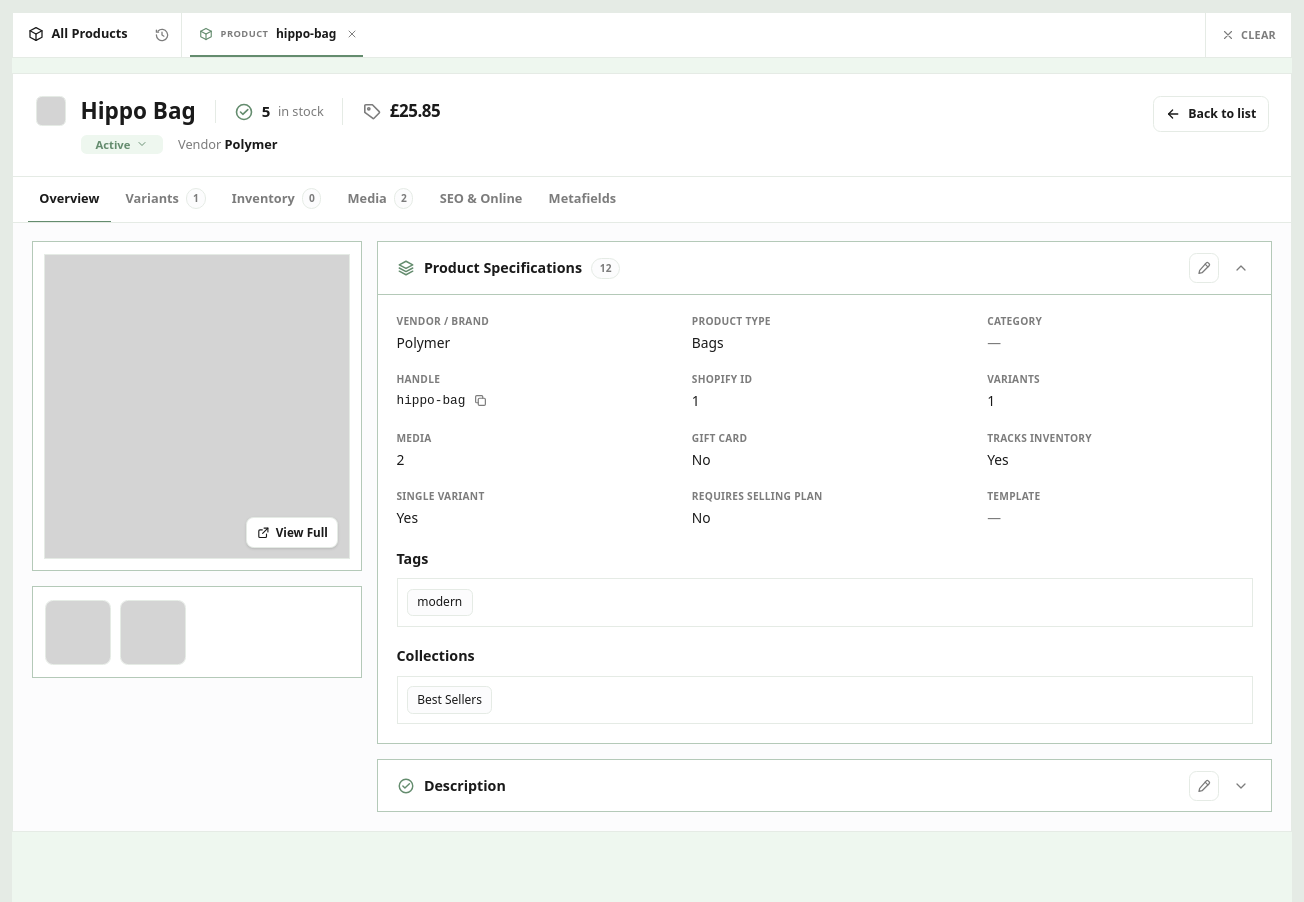
Test: editing a section in place › keeps Save disabled until something changes
The image size is (1304, 902).
Expected: the heading "Hippo Bag" is shown, top-left (80, 96), bottom-right (196, 127)
Click the button named "Edit specifications" at (1204, 268), box top-left (1189, 253), bottom-right (1219, 283)
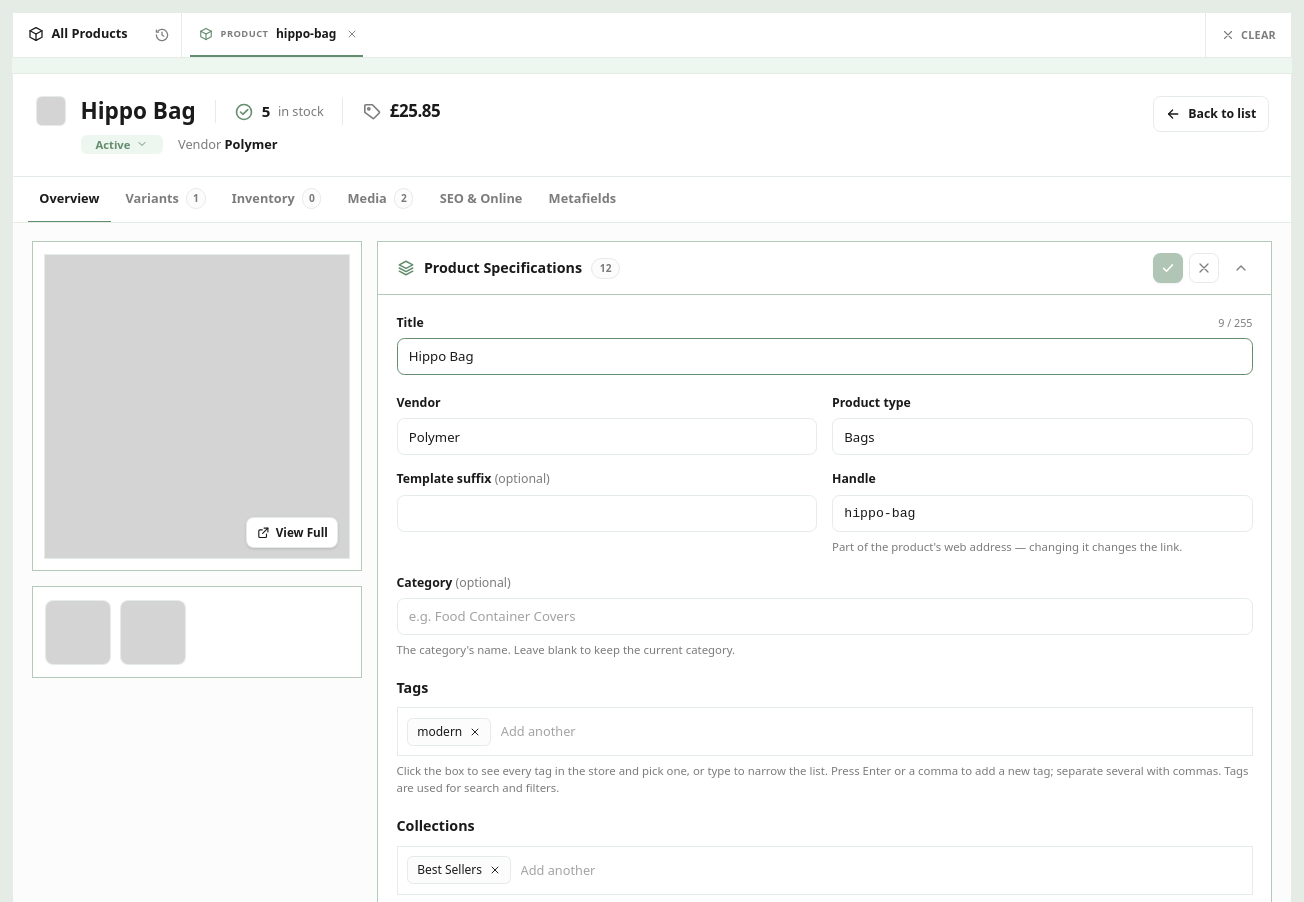
Result: the button named "Save specifications" is disabled at top-left (1153, 253), bottom-right (1183, 283)
Type "!" into the field labelled "Vendor" at (607, 437), box top-left (396, 418), bottom-right (817, 456)
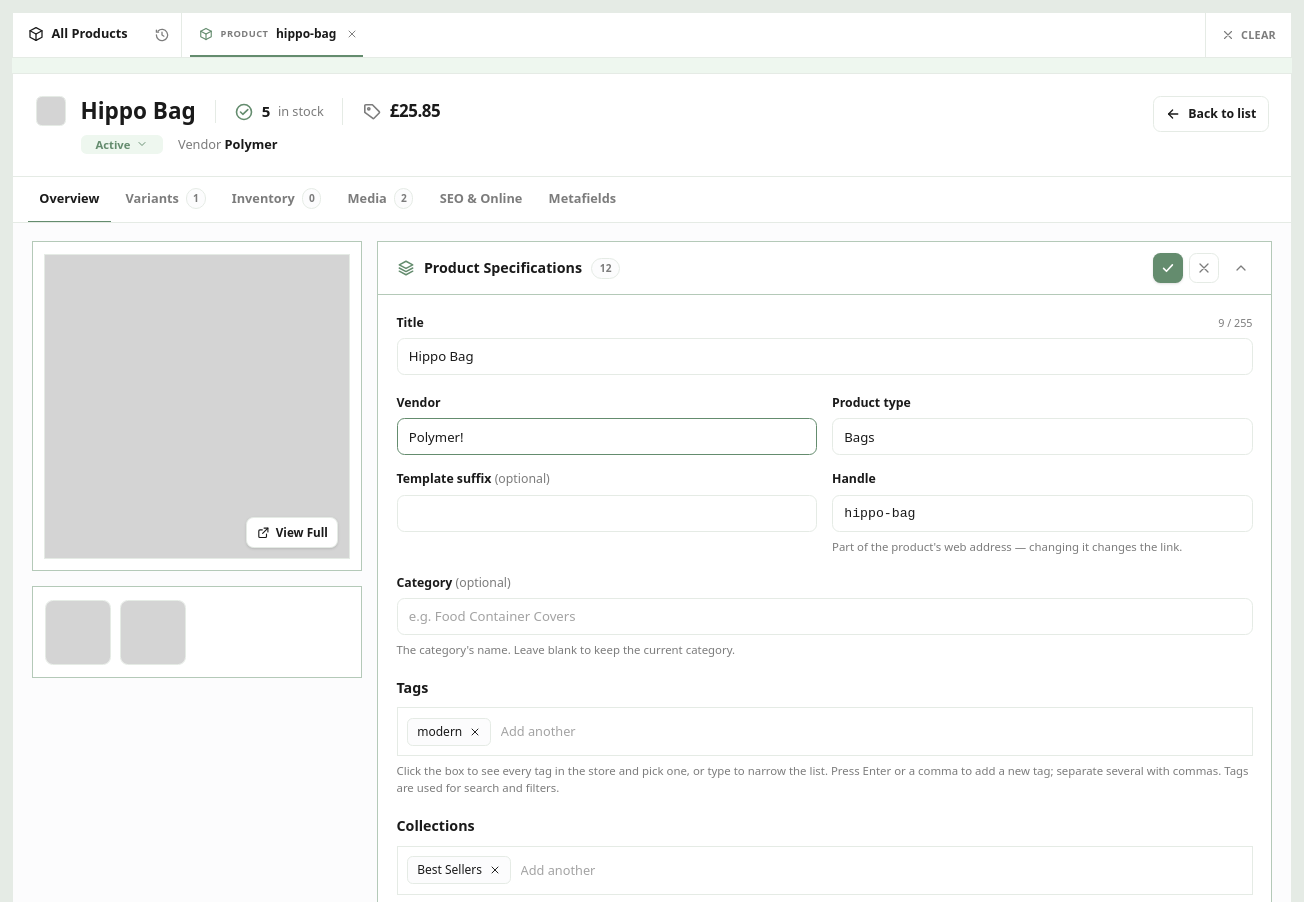
Result: the button named "Save specifications" is enabled at top-left (1153, 253), bottom-right (1183, 283)
